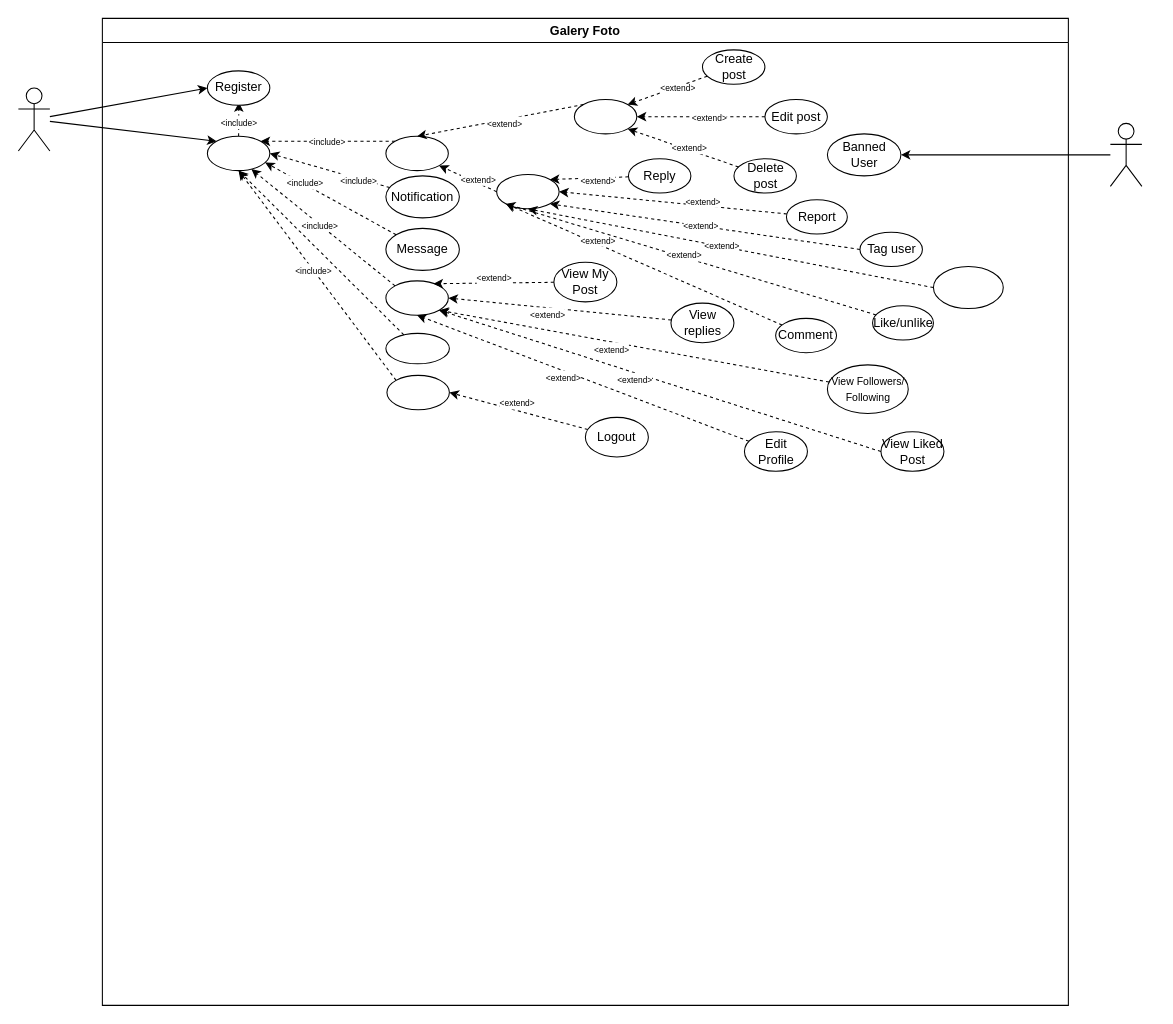
The diagram is 1173 pixels wide and 1024 high, and some of its shapes have lost their labels. Each missing label, with the box of its shape:
Explore: (385, 332, 449, 364)
Follow/unfollow user: (932, 266, 1003, 309)
Home: (385, 135, 448, 171)
Login: (206, 135, 270, 171)
Moderator: (1109, 122, 1142, 186)
Post: (573, 98, 637, 134)
Profile: (385, 280, 448, 315)
Profile Setting: (386, 374, 449, 410)
User: (17, 87, 50, 151)
View feed: (496, 173, 559, 209)
